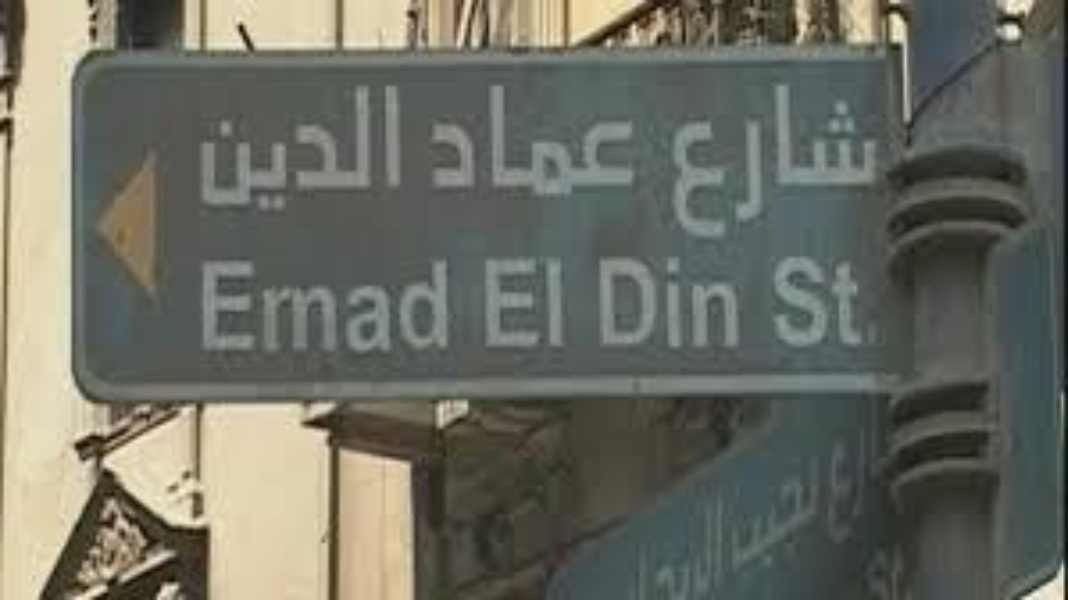text: (673, 79, 688, 236), (689, 79, 704, 236), (705, 79, 720, 236), (721, 79, 736, 236), (737, 79, 752, 236), (753, 79, 768, 236), (769, 79, 784, 236), (785, 79, 800, 236), (801, 79, 816, 236), (817, 79, 832, 236), (833, 79, 848, 236), (849, 79, 864, 236), (865, 79, 880, 236), (833, 390, 848, 543), (849, 390, 864, 543), (865, 390, 880, 543), (721, 443, 736, 579), (737, 443, 752, 579), (753, 443, 768, 579), (769, 443, 784, 579), (785, 443, 800, 579), (801, 443, 816, 579), (209, 83, 224, 215), (225, 83, 240, 215), (241, 83, 256, 215), (257, 83, 272, 215), (273, 83, 288, 215), (289, 83, 304, 215), (305, 83, 320, 215), (321, 83, 336, 215), (337, 83, 352, 215), (353, 83, 368, 215), (369, 83, 384, 215), (385, 83, 400, 215), (881, 79, 893, 236), (433, 79, 448, 201), (449, 79, 464, 201), (465, 79, 480, 201), (481, 79, 496, 201), (497, 79, 512, 201), (513, 79, 528, 201), (529, 79, 544, 201), (545, 79, 560, 201), (561, 79, 576, 201), (577, 79, 592, 201), (593, 79, 608, 201), (609, 79, 624, 201), (817, 443, 829, 579), (625, 490, 640, 597), (641, 490, 656, 597), (657, 490, 672, 597), (673, 490, 688, 597), (689, 490, 704, 597), (705, 490, 720, 597), (593, 251, 608, 354), (609, 251, 624, 354), (625, 251, 640, 354), (641, 251, 656, 354), (657, 251, 672, 354), (673, 251, 688, 354), (689, 251, 704, 354), (705, 251, 720, 354), (721, 251, 736, 354), (769, 251, 784, 354), (785, 251, 800, 354), (801, 251, 816, 354), (817, 251, 832, 354), (833, 251, 848, 354), (849, 251, 864, 354), (822, 390, 832, 543), (209, 254, 224, 354), (225, 254, 240, 354), (241, 254, 256, 354), (257, 254, 272, 354), (273, 254, 288, 354), (289, 254, 304, 354), (305, 254, 320, 354), (321, 254, 336, 354), (337, 254, 352, 354), (353, 254, 368, 354), (369, 254, 384, 354), (385, 254, 400, 354), (401, 254, 416, 354), (417, 254, 432, 354), (433, 254, 448, 354), (481, 254, 496, 351), (497, 254, 512, 351), (513, 254, 528, 351), (529, 254, 544, 351), (545, 254, 560, 351), (197, 83, 208, 215), (625, 79, 636, 201), (721, 490, 733, 597), (197, 254, 208, 354), (665, 79, 672, 236), (561, 254, 572, 351), (737, 251, 747, 354), (401, 83, 408, 215), (761, 251, 768, 354), (429, 79, 432, 201), (865, 251, 868, 354), (881, 390, 883, 543), (718, 443, 720, 579), (622, 490, 624, 597), (449, 254, 451, 354), (479, 254, 480, 351)
